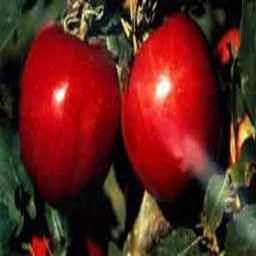apple: (121, 13, 225, 199), (19, 25, 122, 203)
